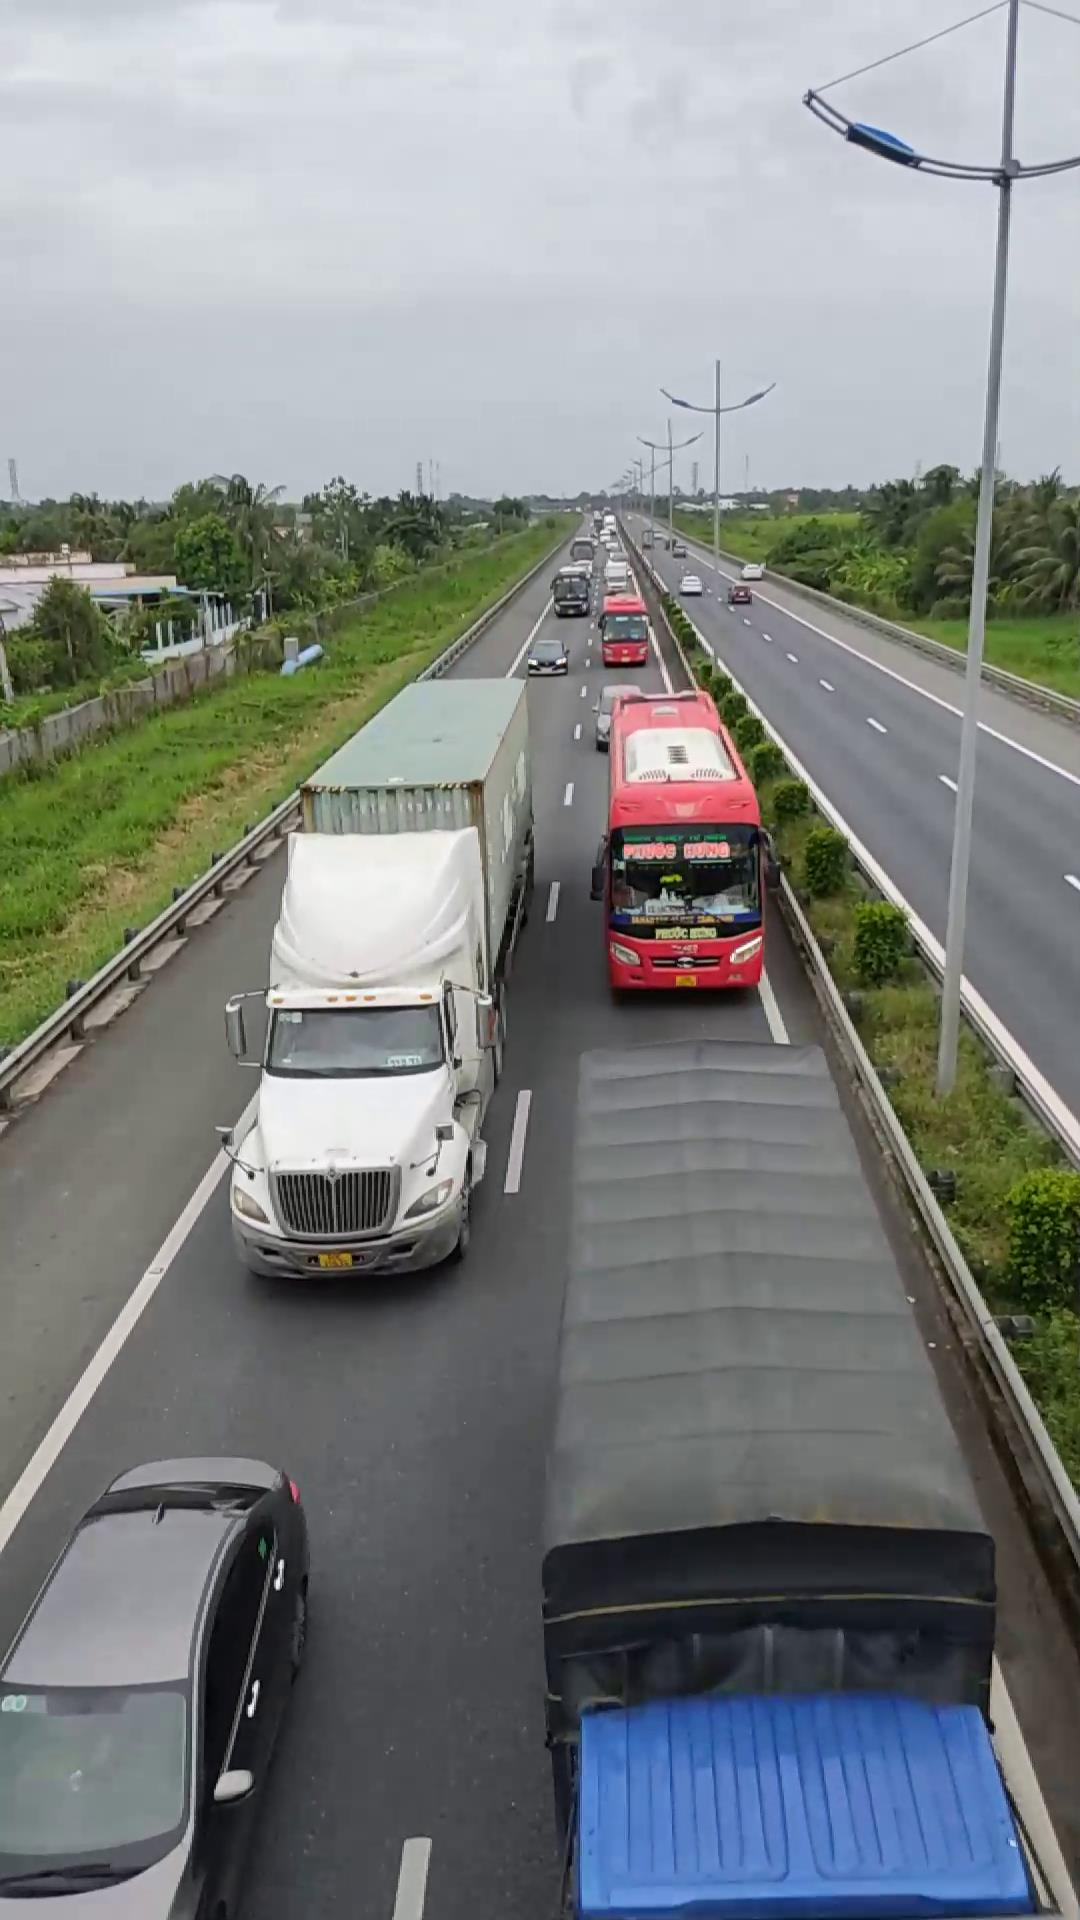bus: (593, 683, 771, 994)
car: (0, 1455, 315, 1917)
truck: (553, 1030, 1034, 1905), (224, 667, 531, 1283)
